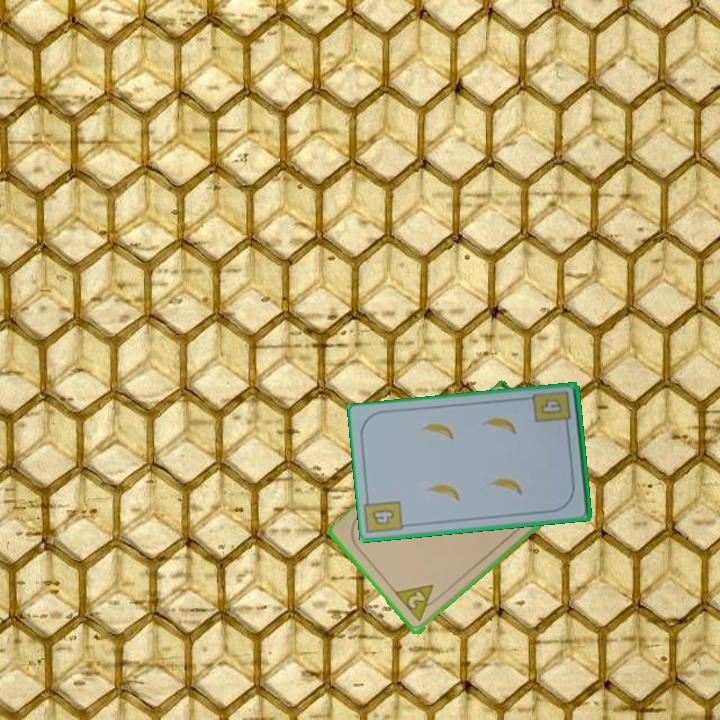2p: (392, 581, 444, 626)
4b: (530, 388, 574, 432), (368, 506, 397, 528)
